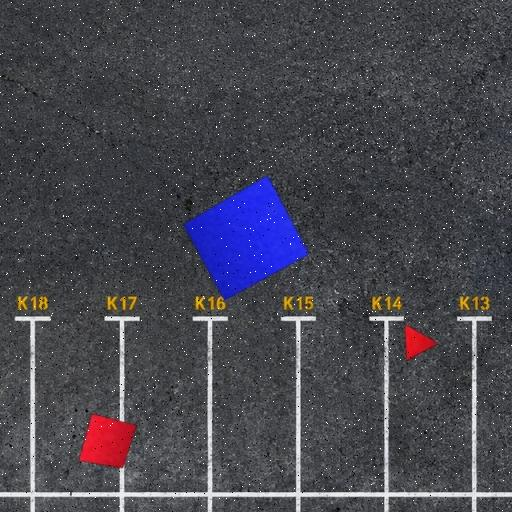BLUE_SQUARE: (182, 174, 310, 302)
RED_SQUARE: (78, 414, 138, 468)
